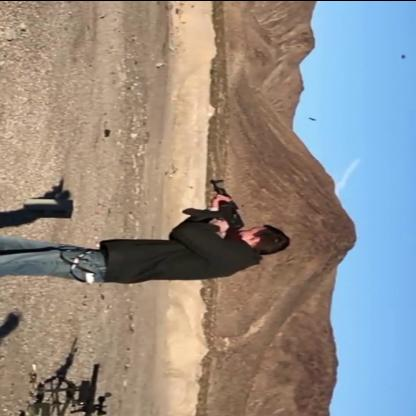long weapon: (178, 178, 260, 248)
